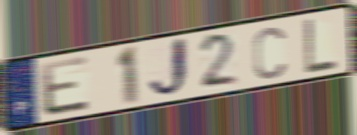1: (116, 43, 144, 109)
2: (199, 31, 240, 94)
C: (251, 24, 288, 82)
E: (38, 53, 93, 119)
J: (146, 34, 191, 101)
L: (303, 16, 339, 75)
